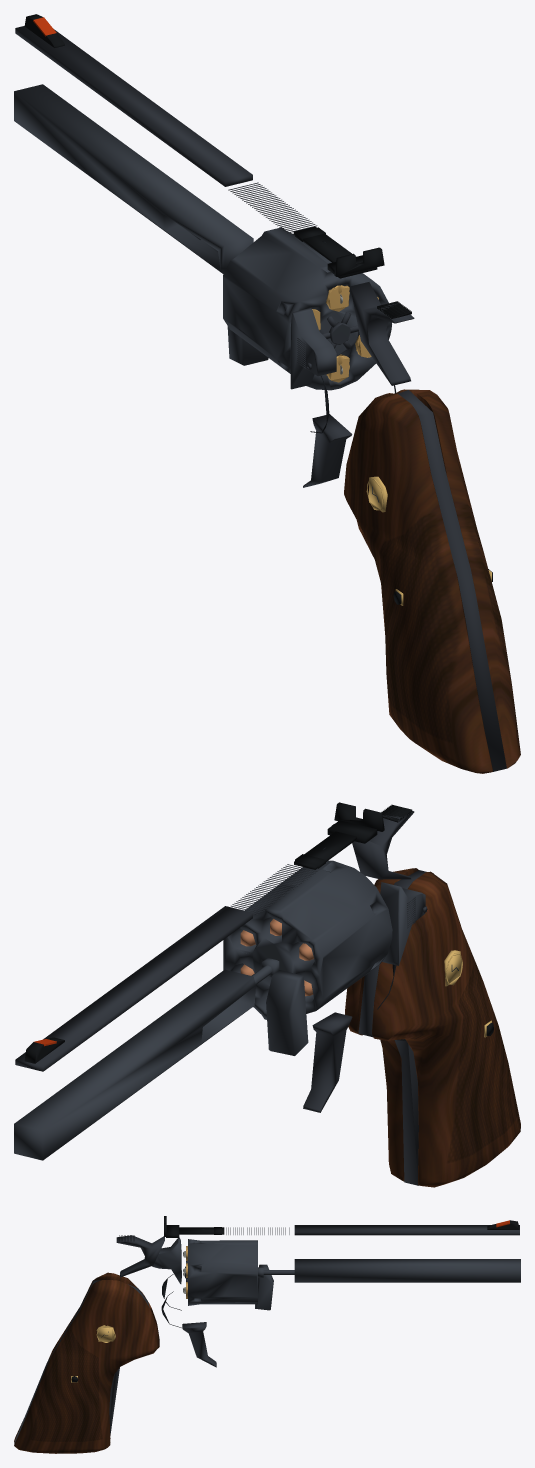
The model's file is ColtPython.glb.
3 views of the same model, one above another, from view 1: azimuth 30°, elevation 25°; view 2: azimuth 150°, elevation 25°; view 3: azimuth 270°, elevation 25° (orthographic). The views are drawn at different scales.
Parts seen in each view (by area): view 1: Body_Mesh, Cylinder_Mesh, Hammer_Mesh, CylinderRelease_Mesh, RearSight_Mesh, Trigger_Mesh, Cases_Mesh; view 2: Body_Mesh, Cylinder_Mesh, CylinderSwing_Mesh, Trigger_Mesh, RearSight_Mesh, Hammer_Mesh, CylinderRelease_Mesh, FrontSight_Mesh; view 3: Body_Mesh, Cylinder_Mesh, Hammer_Mesh, CylinderRelease_Mesh, Trigger_Mesh, CylinderSwing_Mesh, RearSight_Mesh.
Part boxes in pixels (x1,y1,x2,y2): Body_Mesh: (14,26,520,773); Cylinder_Mesh: (223,227,391,390); Hammer_Mesh: (350,282,414,385); CylinderRelease_Mesh: (290,308,336,389); RearSight_Mesh: (293,226,384,278); Trigger_Mesh: (303,414,352,487); Cases_Mesh: (312,287,378,380); Body_Mesh: (14,864,520,1187); Cylinder_Mesh: (223,860,392,1019); CylinderSwing_Mesh: (262,958,308,1055); Trigger_Mesh: (303,1012,352,1112); RearSight_Mesh: (294,802,384,869); Hammer_Mesh: (352,804,414,879); CylinderRelease_Mesh: (380,882,427,965); FrontSight_Mesh: (24,1037,64,1063); Body_Mesh: (14,1225,520,1453); Cylinder_Mesh: (188,1239,257,1305); Hammer_Mesh: (116,1235,164,1277); CylinderRelease_Mesh: (152,1237,181,1283); Trigger_Mesh: (182,1322,216,1367); CylinderSwing_Mesh: (255,1264,273,1310); RearSight_Mesh: (164,1216,224,1237).
Size of the model in its own units: 0.0402 by 0.1413 by 0.291.
Materials: 13 (1 with a texture image).
